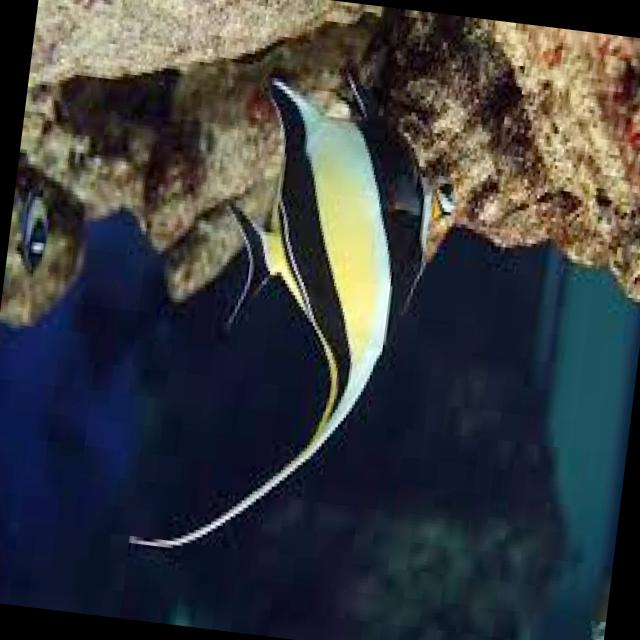MorishIdol: (124, 34, 478, 587)
